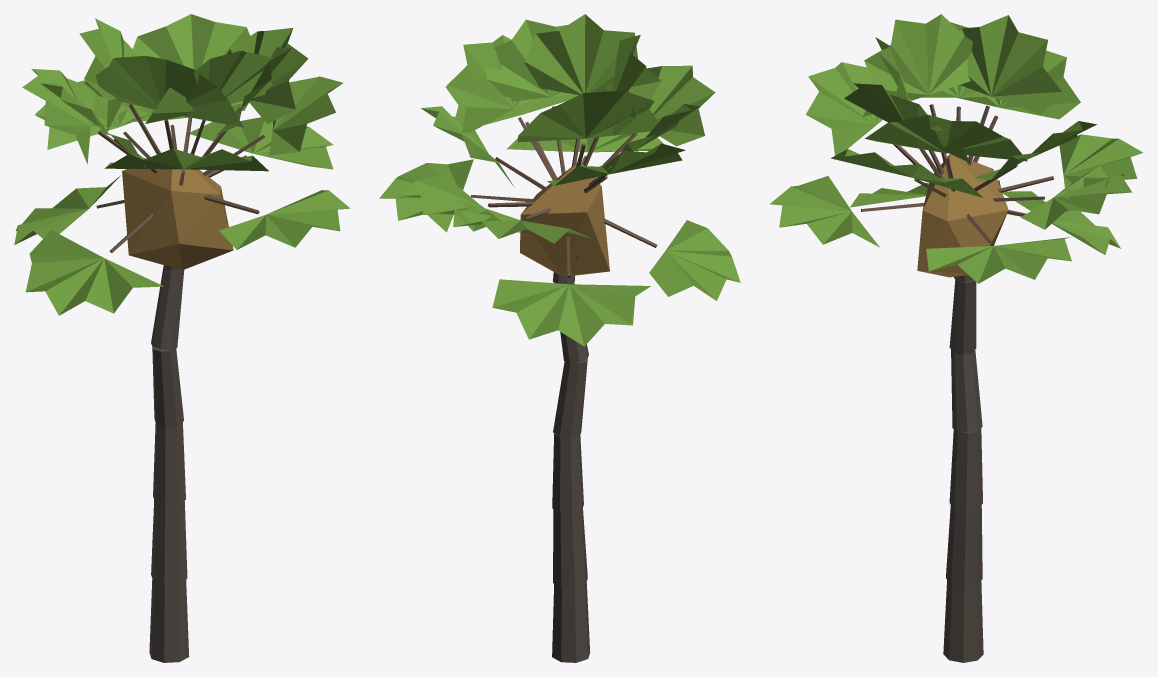
Rendered from ENV_SugarPalm_B.fbx.
The picture shows the model from 3 angles, left to right: view 1: azimuth 30°, elevation 25°; view 2: azimuth 150°, elevation 25°; view 3: azimuth 270°, elevation 25°; orthographic projection. The views are drawn at different scales.
Visible parts, largest first — view 1: ENV_SugarPalm_B; view 2: ENV_SugarPalm_B; view 3: ENV_SugarPalm_B.
Part boxes in pixels (x1,y1,x2,y2): ENV_SugarPalm_B: (14,14,350,662); ENV_SugarPalm_B: (379,14,740,662); ENV_SugarPalm_B: (770,14,1142,662).
Bounding box in the file's own units: 5.39 × 10.14 × 5.58.
